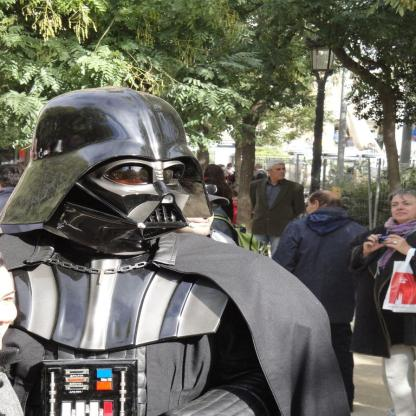Helmet: (17, 92, 217, 258)
